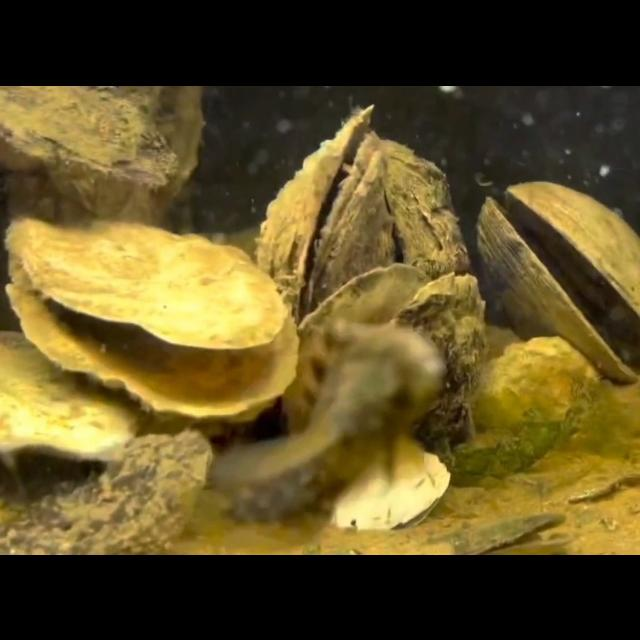Oyster-Closed: (0, 427, 214, 555), (441, 338, 599, 488), (0, 333, 144, 465), (1, 85, 180, 191), (378, 142, 468, 282)
Oyster-Open: (5, 218, 298, 420), (296, 266, 487, 446), (473, 183, 639, 384), (255, 108, 393, 318), (334, 452, 450, 534), (449, 511, 573, 555)
